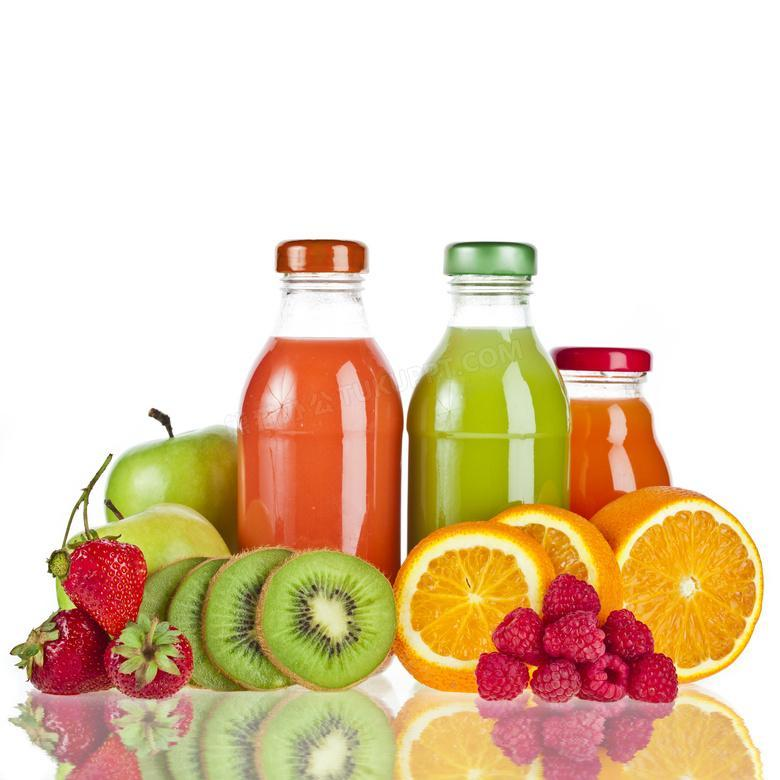apple: (99, 421, 239, 551)
